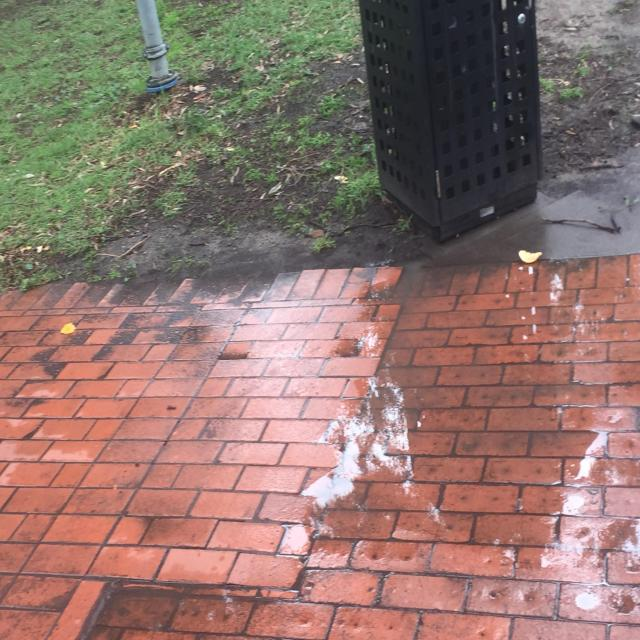litter: (516, 245, 543, 267)
